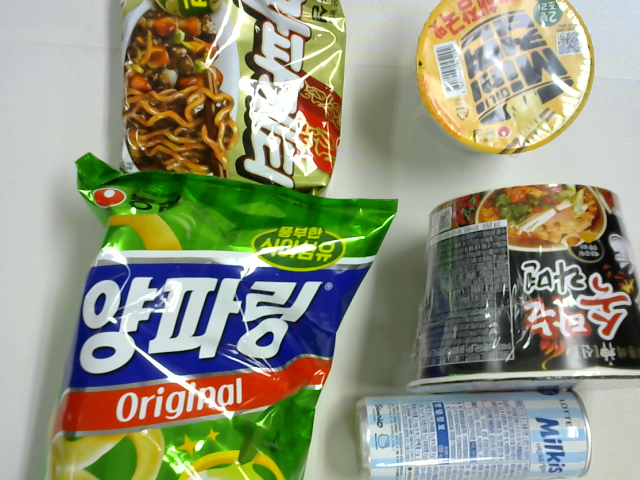Chicchok_Original_2400: (412, 200, 640, 366)
Milkies_250ml: (351, 394, 600, 478)
Olive_Chapaghetti: (129, 1, 341, 181)
Oninon_Ring: (49, 178, 400, 480)
Udongmini: (410, 1, 587, 157)
